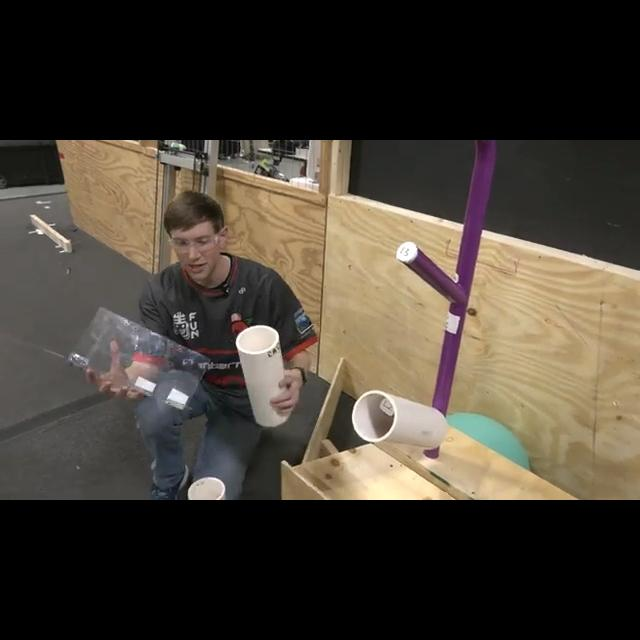CORAL: (236, 324, 292, 426), (352, 391, 444, 452)
